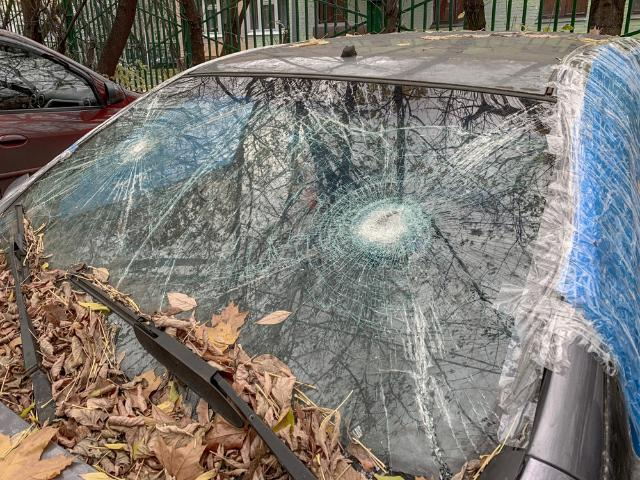glass shatter: (0, 76, 557, 480)
